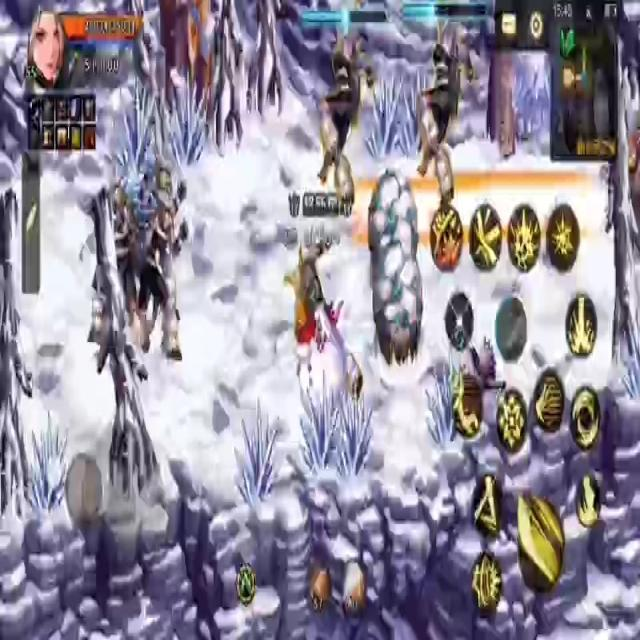player: (290, 293, 351, 424)
